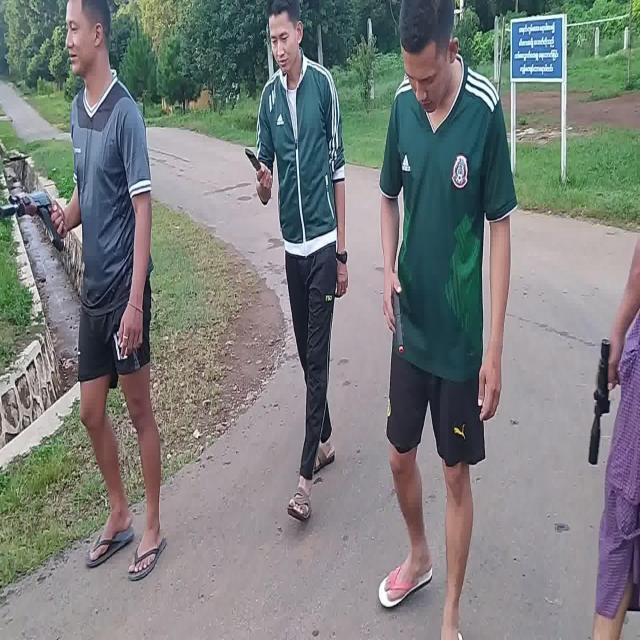gun: (2, 193, 64, 253), (392, 290, 404, 352)
